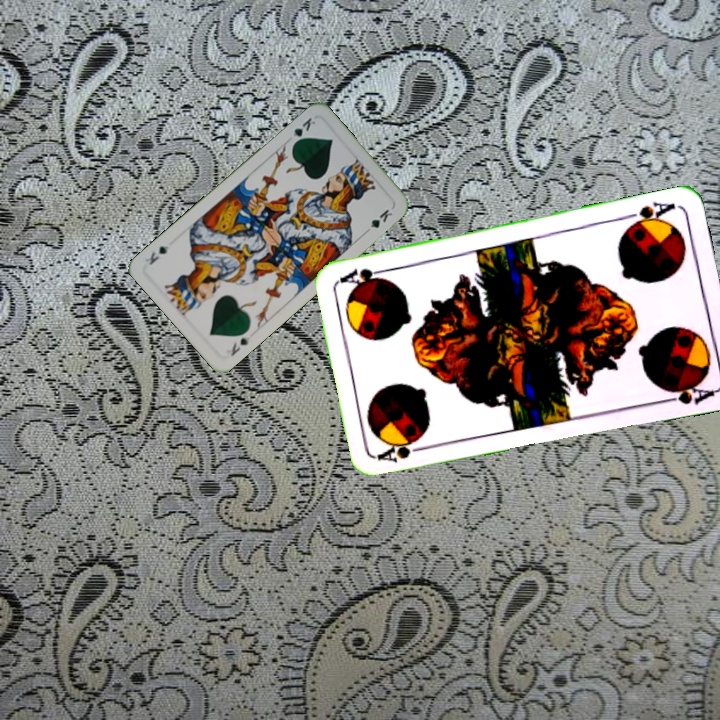GK: (288, 114, 319, 148), (227, 332, 253, 359)
SA: (621, 198, 678, 231), (374, 436, 433, 465)
